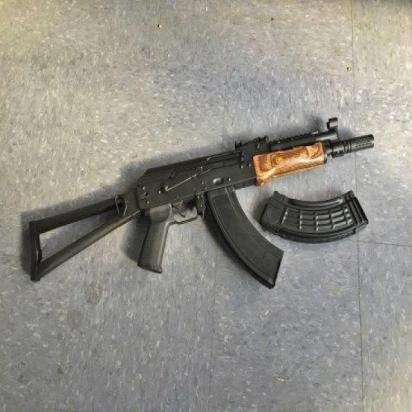Gun: (29, 120, 376, 288)
